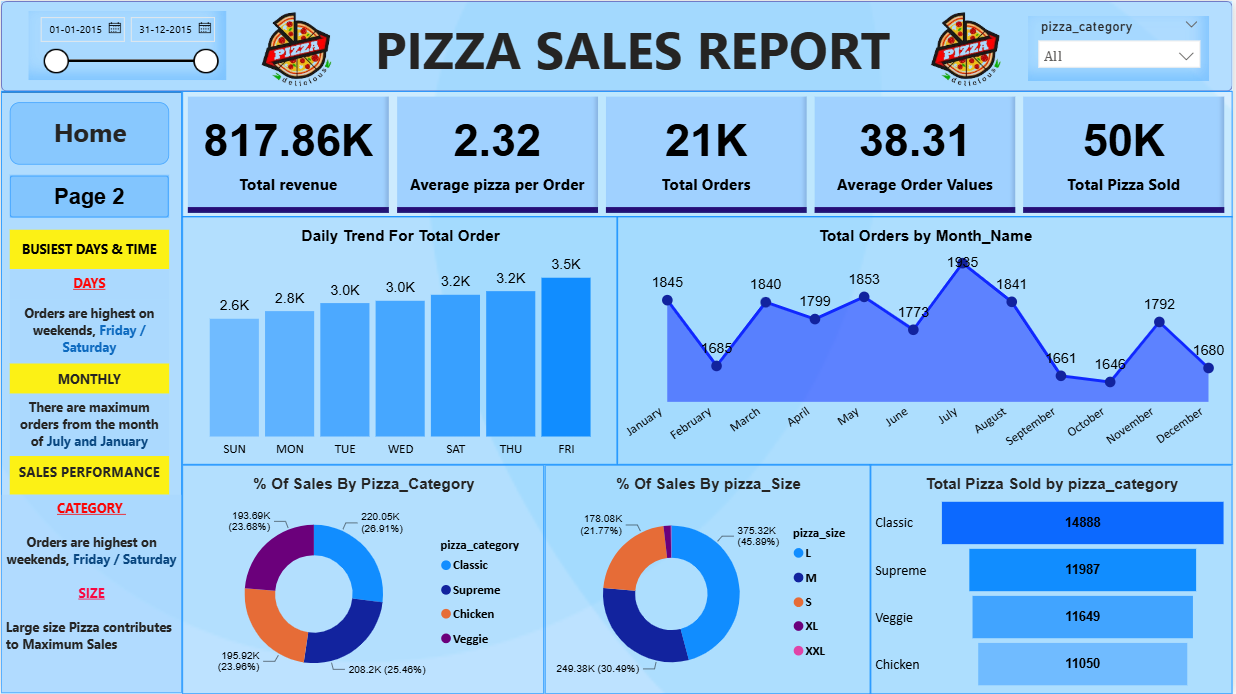

What the dashboard file says about the page in this screenshot:
{"tool":"powerbi","page":{"name":"Page 1","canvas":[1280,720],"ordinal":0},"visuals":[{"type":"shape","box":[0,0,1279.6,94.1],"z":0},{"type":"textbox","box":[306.3,0,717.6,94.1],"z":1000},{"type":"shape","box":[0,94.1,188.1,625.9],"z":2000},{"type":"textbox","box":[9.6,104.9,165.2,65.1],"z":3000},{"type":"cardVisual","fields":{"Data":["pizza_sales.Total revenue","pizza_sales.Average pizza per Order","pizza_sales.Total Orders","pizza_sales.Average Order Values","pizza_sales.Total Pizza Sold"]},"box":[188.1,94.1,1091.5,131.5],"z":4000},{"type":"columnChart","title":"Daily Trend For Total Order","fields":{"Category":["pizza_sales.Order_Day"],"Y":["pizza_sales.Total Orders"]},"box":[188.1,223.1,452.3,258.1],"z":5000},{"type":"areaChart","fields":{"Y":["pizza_sales.Total Orders"],"Category":["pizza_sales.Month_Name"]},"box":[640.4,223.1,639.2,258.1],"z":6000},{"type":"donutChart","title":"% Of Sales By Pizza_Category","fields":{"Category":["pizza_sales.pizza_category"],"Y":["pizza_sales.Total revenue"]},"box":[188.1,481.2,376.3,238.8],"z":7000},{"type":"donutChart","title":"% Of Sales By pizza_Size","fields":{"Category":["pizza_sales.pizza_size"],"Y":["pizza_sales.Total revenue"]},"box":[564.4,481.2,338.9,238.8],"z":8000},{"type":"funnel","fields":{"Category":["pizza_sales.pizza_category"],"Y":["pizza_sales.Total Pizza Sold"]},"box":[903,481.2,377,238],"z":9000},{"type":"image","box":[234,0,145.9,104.9],"z":10000},{"type":"image","box":[946.7,0,111,104.9],"z":11000},{"type":"actionButton","box":[9.6,180.9,165.2,44.6],"z":12000},{"type":"textbox","box":[9.6,237.6,165.2,41],"z":13000},{"type":"textbox","box":[9.6,278.6,165.2,31.4],"z":14000},{"type":"textbox","box":[9.6,309.9,165.2,66.3],"z":15000},{"type":"textbox","box":[9.6,376.3,165.2,31.4],"z":16000},{"type":"textbox","box":[9.6,407.6,165.2,82],"z":17000},{"type":"textbox","box":[9.6,472.8,165.2,39.8],"z":18000},{"type":"slicer","fields":{"Values":["pizza_sales.pizza_category"]},"box":[1067.3,16,188,67.5],"z":19000},{"type":"slicer","fields":{"Values":["pizza_sales.order_date"]},"box":[28.9,10.9,205,72.4],"z":20000},{"type":"textbox","box":[0,512.6,188.1,206.2],"z":22000}]}

Visuals, with their boxes in screenshot pixels (x1, y1, x2, y2), scaled from the page's 1280x720 canvas onto the 1236x694 screenshot:
shape: <bbox>0, 0, 1235, 91</bbox>
textbox: <bbox>296, 0, 989, 91</bbox>
shape: <bbox>0, 91, 182, 693</bbox>
textbox: <bbox>9, 101, 169, 164</bbox>
cardVisual - pizza_sales.Total revenue x pizza_sales.Average pizza per Order: <bbox>182, 91, 1235, 217</bbox>
"Daily Trend For Total Order" columnChart: <bbox>182, 215, 618, 464</bbox>
areaChart - pizza_sales.Total Orders x pizza_sales.Month_Name: <bbox>618, 215, 1235, 464</bbox>
"% Of Sales By Pizza_Category" donutChart: <bbox>182, 464, 545, 693</bbox>
"% Of Sales By pizza_Size" donutChart: <bbox>545, 464, 872, 693</bbox>
funnel - pizza_sales.pizza_category x pizza_sales.Total Pizza Sold: <bbox>872, 464, 1235, 693</bbox>
image: <bbox>226, 0, 367, 101</bbox>
image: <bbox>914, 0, 1021, 101</bbox>
actionButton: <bbox>9, 174, 169, 217</bbox>
textbox: <bbox>9, 229, 169, 269</bbox>
textbox: <bbox>9, 269, 169, 299</bbox>
textbox: <bbox>9, 299, 169, 363</bbox>
textbox: <bbox>9, 363, 169, 393</bbox>
textbox: <bbox>9, 393, 169, 472</bbox>
textbox: <bbox>9, 456, 169, 494</bbox>
slicer - pizza_sales.pizza_category: <bbox>1031, 15, 1212, 80</bbox>
slicer - pizza_sales.order_date: <bbox>28, 11, 226, 80</bbox>
textbox: <bbox>0, 494, 182, 693</bbox>
